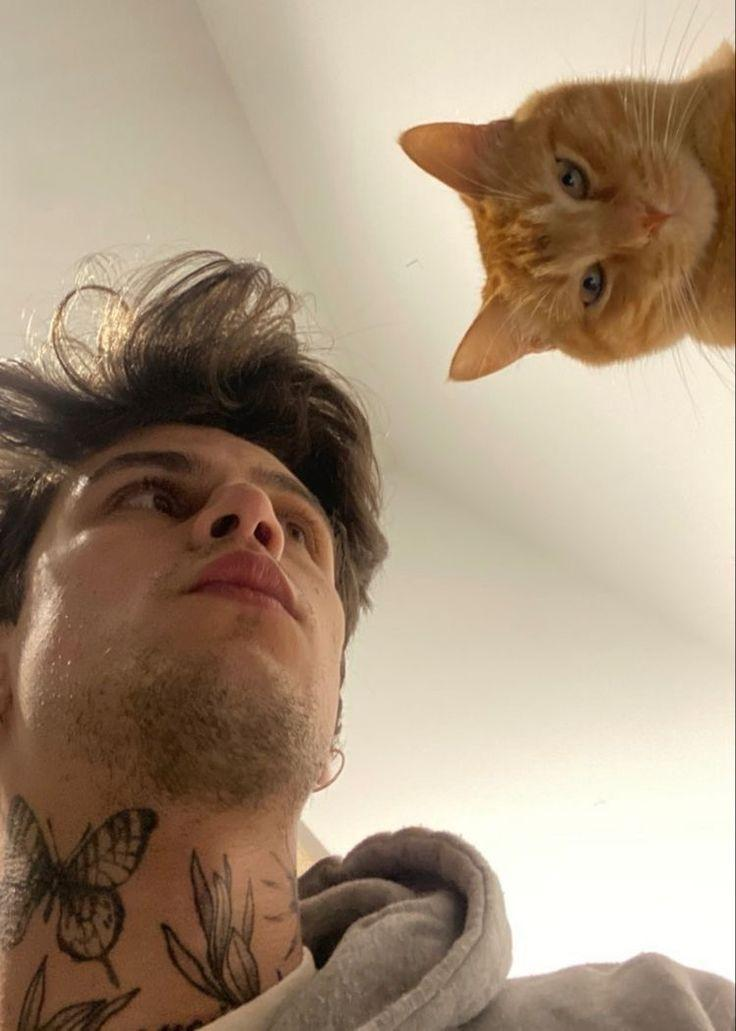kedo: (394, 26, 736, 388)
